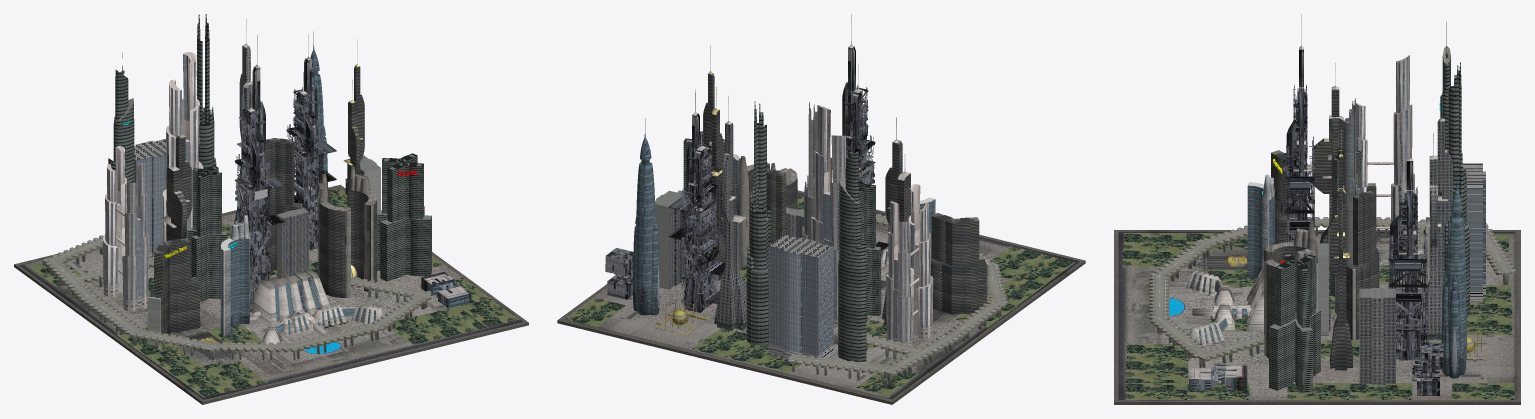
File: Scifi downtown city.obj
The picture shows the model from 3 angles, left to right: view 1: azimuth 30°, elevation 25°; view 2: azimuth 150°, elevation 25°; view 3: azimuth 270°, elevation 25°; orthographic projection. The views are drawn at different scales.
Parts seen in each view (by area): view 1: object 2, mesh01, Form22, Form24, Form7, Form13; view 2: object 2, mesh01, Form22, Form24, Form13, Form7; view 3: object 2, mesh01, Form7, Form13, Form22, Form24.
Boxes of the visible parts, left/top/right/bottom form: object 2: left=14, top=14, right=528, bottom=404; mesh01: left=42, top=46, right=431, bottom=360; Form22: left=103, top=146, right=148, bottom=311; Form24: left=103, top=152, right=147, bottom=311; Form7: left=162, top=52, right=203, bottom=241; Form13: left=162, top=54, right=199, bottom=241; object 2: left=557, top=14, right=1085, bottom=404; mesh01: left=668, top=47, right=1007, bottom=384; Form22: left=886, top=184, right=933, bottom=353; Form24: left=886, top=189, right=933, bottom=353; Form13: left=811, top=105, right=845, bottom=327; Form7: left=811, top=105, right=845, bottom=326; object 2: left=1114, top=14, right=1520, bottom=404; mesh01: left=1149, top=49, right=1516, bottom=370; Form7: left=1391, top=55, right=1414, bottom=288; Form13: left=1391, top=56, right=1414, bottom=288; Form22: left=1356, top=103, right=1393, bottom=229; Form24: left=1356, top=104, right=1367, bottom=192.
Size of the model in its own units: 250 by 209 by 250.
